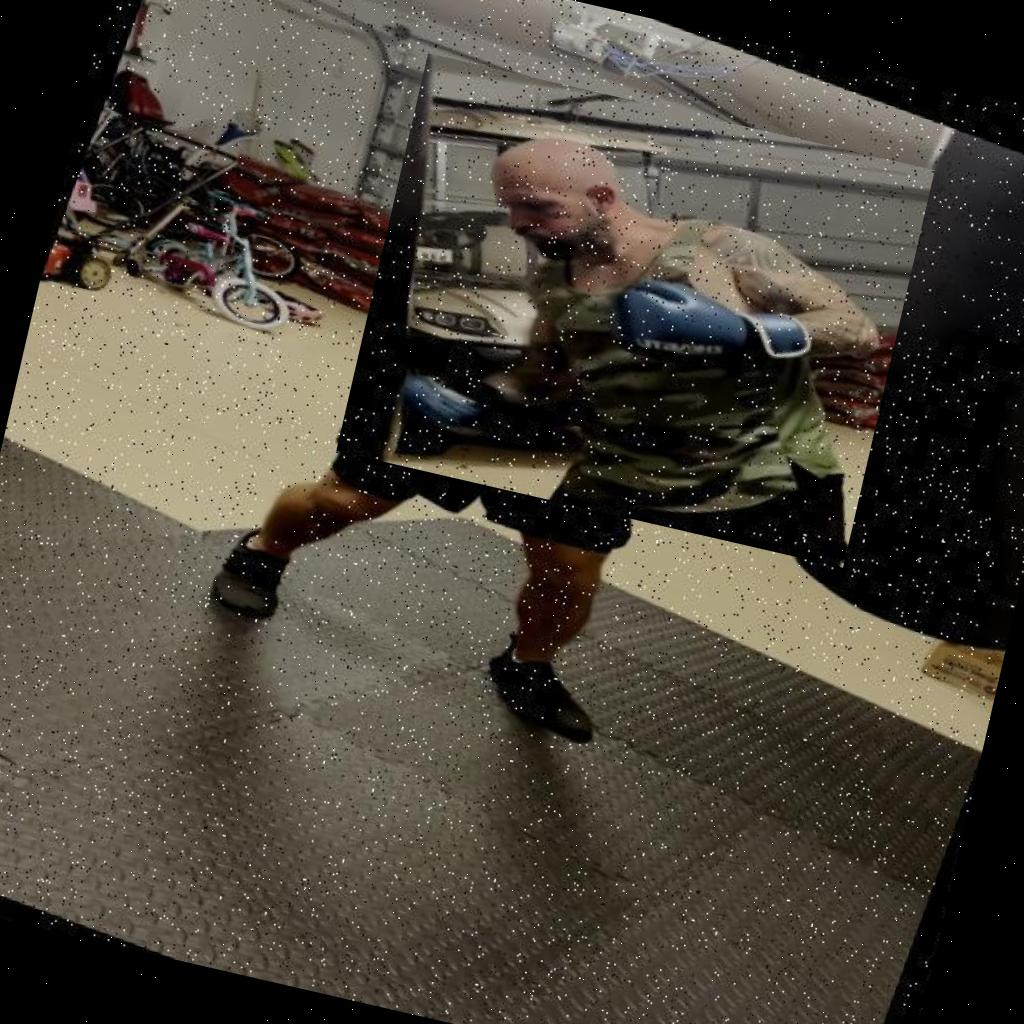bag: (749, 105, 1024, 668)
uppercut: (336, 53, 935, 568)
